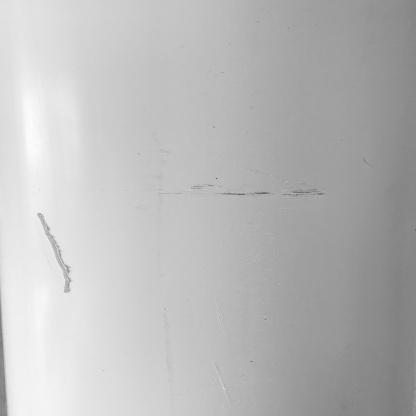sunshang: (35, 212, 73, 295)
